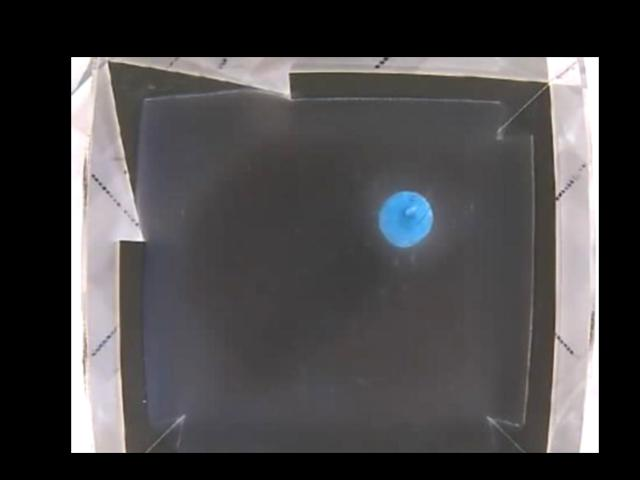Carrot: (378, 189, 433, 245)
